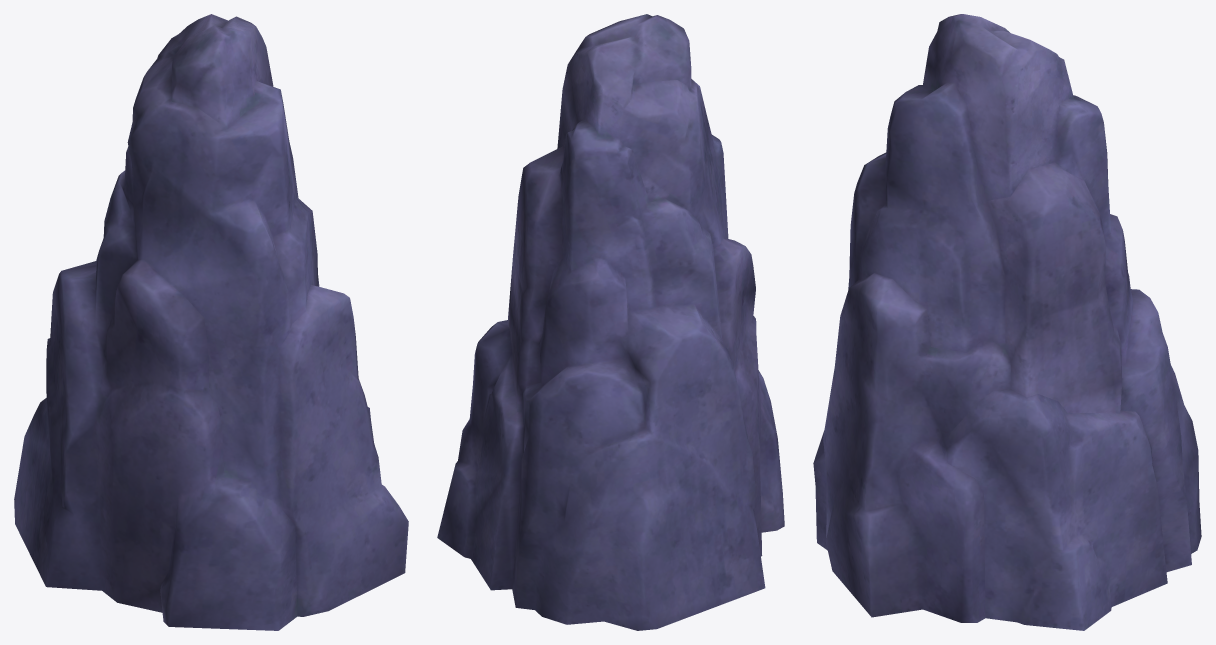
File: Story_lushan_shanshi03.fbx
3 renders of one model, left to right at view 1: azimuth 30°, elevation 25°; view 2: azimuth 150°, elevation 25°; view 3: azimuth 270°, elevation 25°, orthographic. The views are drawn at different scales.
Parts seen in each view (by area): view 1: Story_lushan_shanshi03__10_; view 2: Story_lushan_shanshi03__10_; view 3: Story_lushan_shanshi03__10_.
Boxes of the visible parts, x1,y1,x2,y2 form: Story_lushan_shanshi03__10_: (14,14,408,630); Story_lushan_shanshi03__10_: (437,14,784,630); Story_lushan_shanshi03__10_: (813,14,1201,630).
Size of the model in its own units: 3171 by 5266 by 3456.
